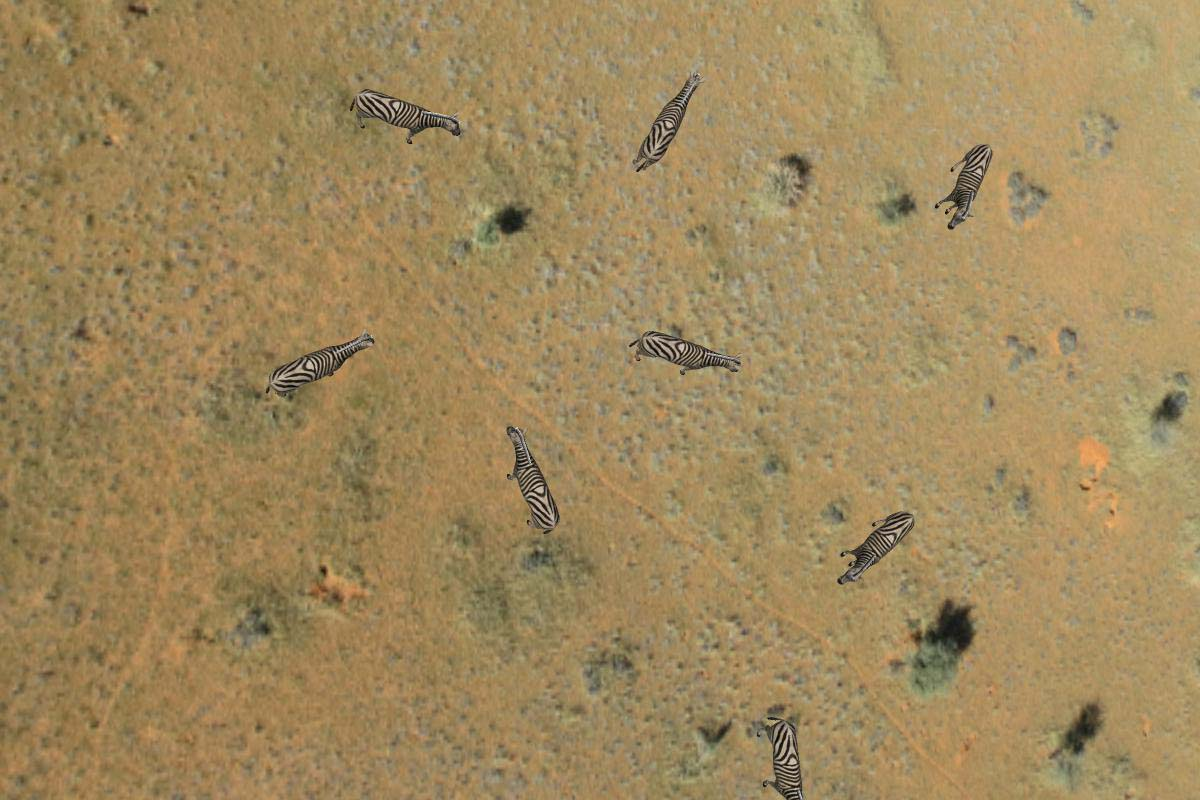zebra: (488, 417, 580, 544), (350, 67, 465, 158), (257, 327, 384, 408), (627, 319, 753, 398), (830, 494, 917, 598), (630, 67, 707, 179), (755, 688, 823, 800), (932, 133, 996, 240)
